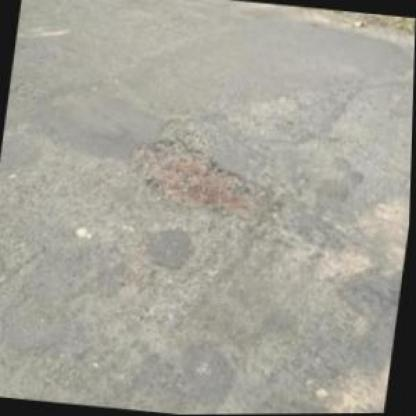pothole: (122, 132, 280, 227)
